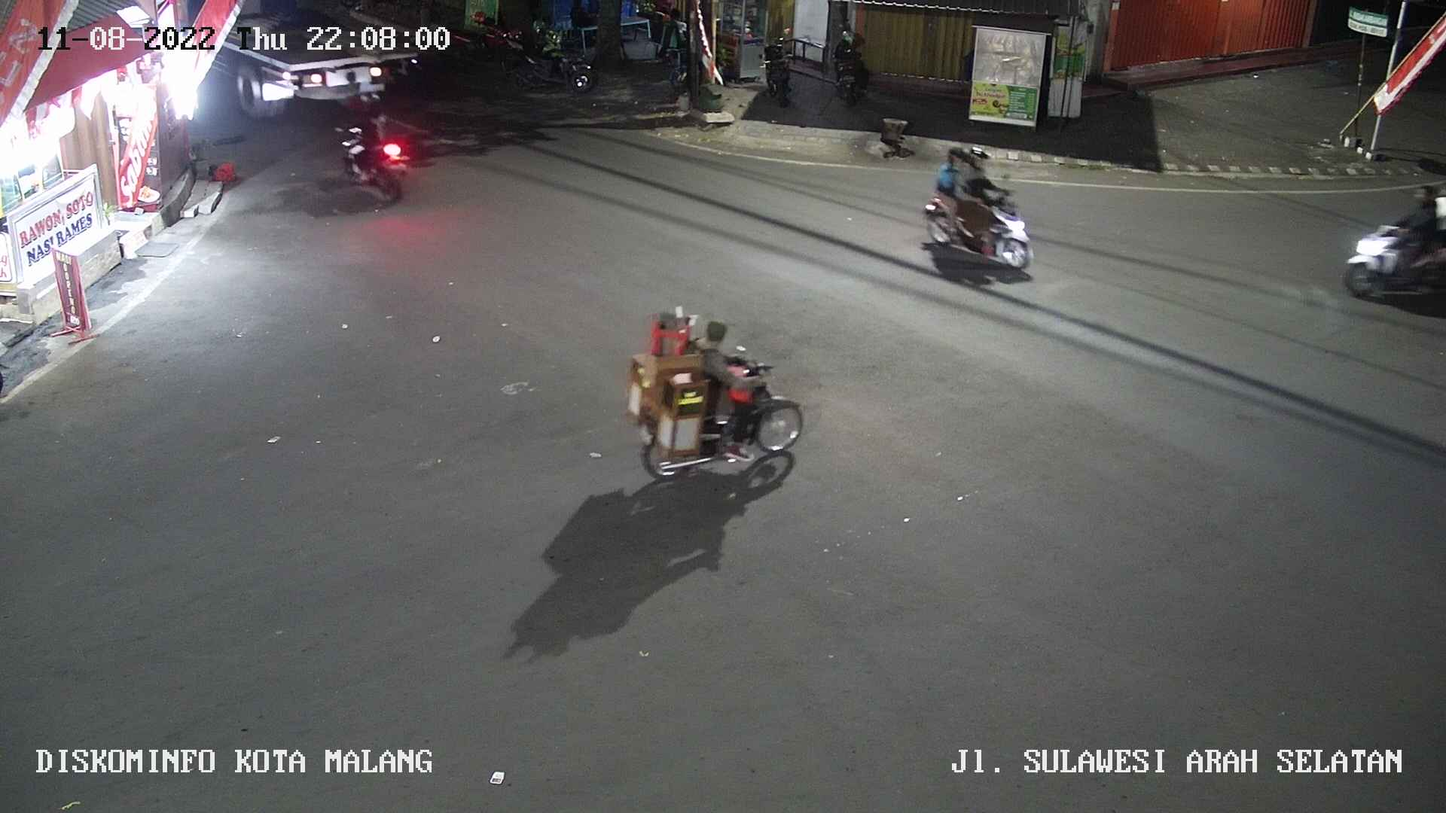with_helmet: (893, 113, 1063, 305)
without_helmet: (582, 275, 814, 487), (1313, 160, 1446, 346)
